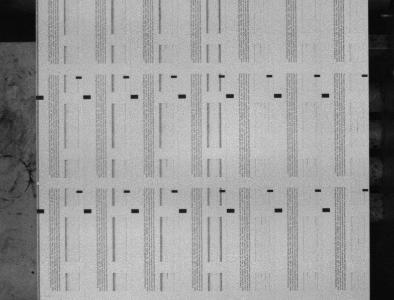backgroundclutter: (36, 180, 40, 184), (31, 271, 35, 274)
qblock: (130, 94, 139, 99), (36, 95, 44, 100), (36, 209, 44, 214), (322, 93, 330, 98), (227, 208, 235, 213), (322, 208, 331, 212), (178, 94, 186, 98), (274, 94, 282, 98), (83, 95, 91, 99), (226, 94, 234, 98), (84, 209, 92, 213), (131, 209, 139, 213), (275, 208, 283, 212), (179, 209, 187, 213)
smallqblock: (219, 189, 226, 193), (219, 74, 225, 78), (123, 76, 130, 79), (266, 74, 273, 77), (314, 74, 321, 77), (76, 190, 83, 193), (171, 190, 178, 193), (267, 189, 274, 192), (76, 76, 82, 79), (171, 75, 177, 78), (315, 189, 321, 192), (124, 190, 130, 193), (362, 74, 368, 77), (363, 188, 369, 191)
